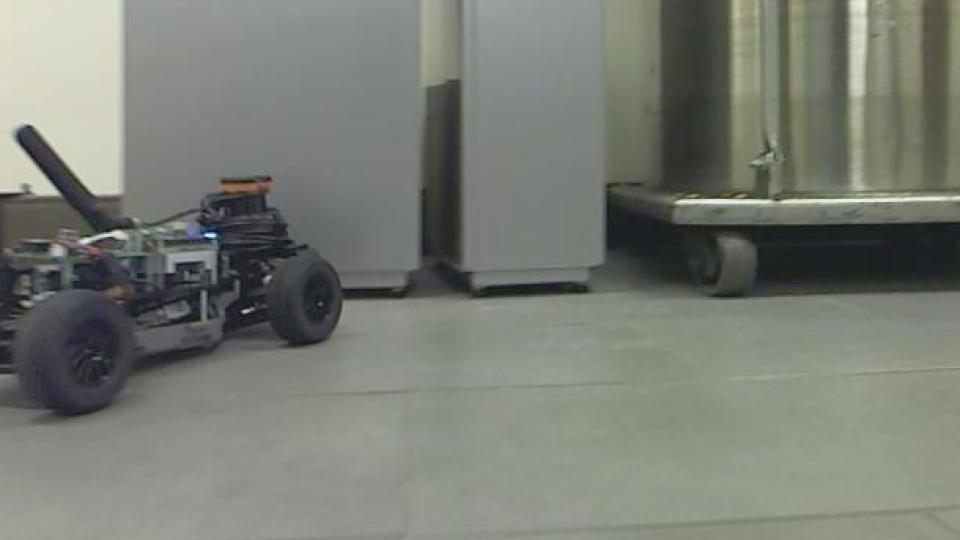car: (0, 120, 346, 418)
